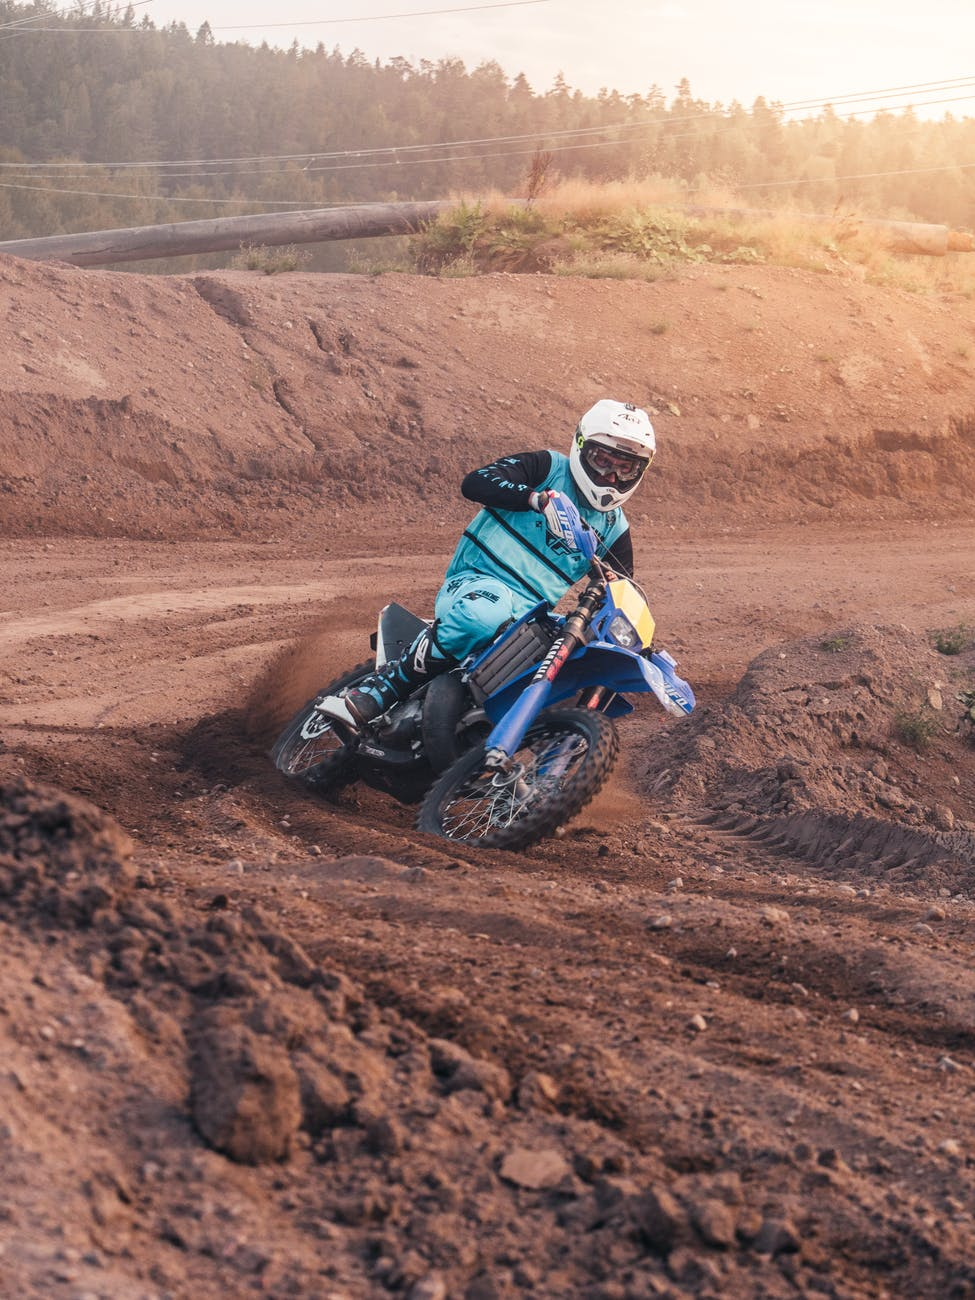helmet: (566, 391, 662, 509)
